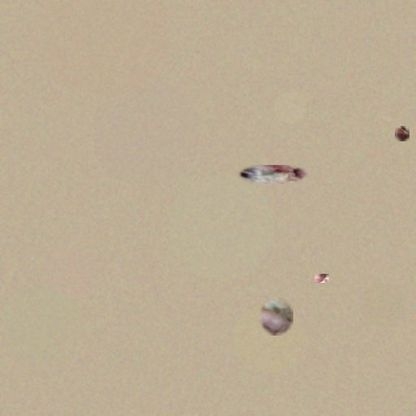rotten: (238, 165, 308, 184), (259, 297, 293, 336)
sprouted: (395, 126, 410, 141), (314, 274, 329, 283)
